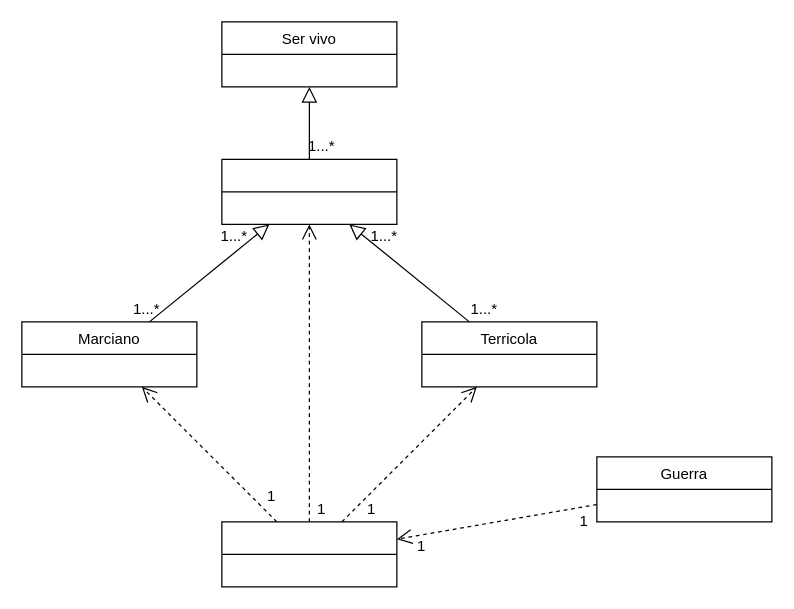
Some shapes in this 794 by 609 pixel diagram are drawn without their labels. The shapes that lost their labels are listed below. From the top down, each one's centre as x and y in pixels, then its label:
(x=309, y=191): Guerrero
(x=309, y=554): Nave
